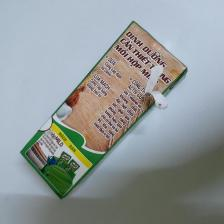Juice Box: (23, 15, 186, 220)
